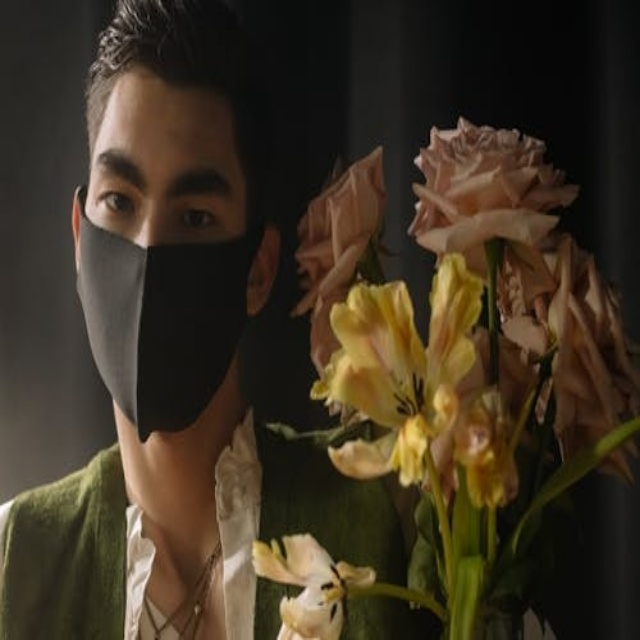Mascara: (75, 185, 269, 442)
Sin_gafas: (83, 135, 237, 238)
